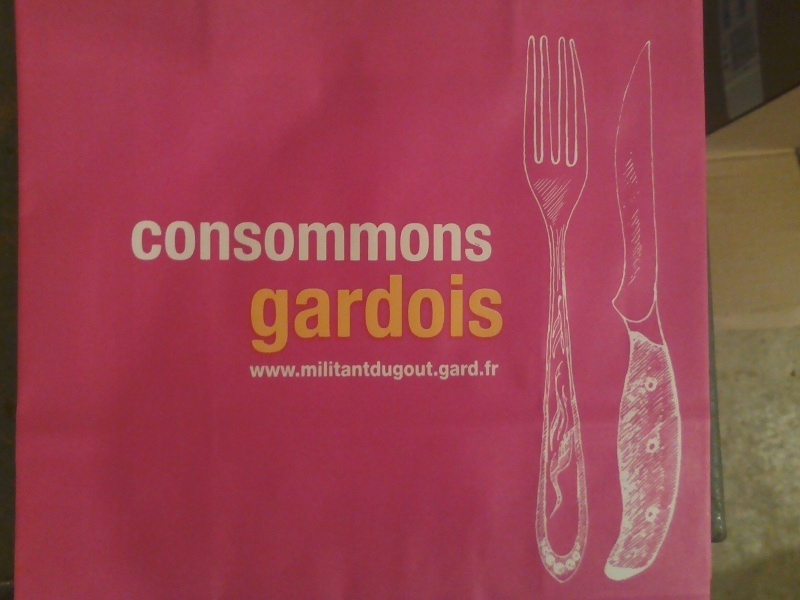text: (257, 270, 272, 355), (273, 270, 288, 355), (289, 270, 304, 355), (305, 270, 320, 355), (321, 270, 336, 355), (337, 270, 352, 355), (353, 270, 368, 355), (369, 270, 384, 355), (385, 270, 400, 355), (401, 270, 416, 355), (417, 270, 432, 355), (433, 270, 448, 355), (449, 270, 464, 355), (465, 270, 480, 355), (481, 270, 496, 355), (129, 217, 144, 265), (145, 217, 160, 265), (161, 217, 176, 265), (177, 217, 192, 265), (193, 217, 208, 265), (209, 217, 224, 265), (225, 217, 240, 265), (241, 217, 256, 265), (257, 217, 272, 265), (273, 217, 288, 265), (289, 217, 304, 265), (305, 217, 320, 265), (321, 217, 336, 265), (337, 217, 352, 265), (353, 217, 368, 265), (369, 217, 384, 265), (385, 217, 400, 265), (401, 217, 416, 265), (417, 217, 432, 265), (433, 217, 448, 265), (449, 217, 464, 265), (465, 217, 480, 265), (497, 270, 505, 355), (481, 217, 495, 265), (249, 270, 256, 355), (257, 356, 272, 381), (273, 356, 288, 381), (289, 356, 304, 381), (305, 356, 320, 381), (321, 356, 336, 381), (337, 356, 352, 381), (353, 356, 368, 381), (369, 356, 384, 381), (385, 356, 400, 381), (401, 356, 416, 381), (417, 356, 432, 381), (433, 356, 448, 381), (449, 356, 464, 381), (465, 356, 480, 381), (481, 356, 496, 381), (497, 356, 506, 381), (248, 356, 256, 381)
